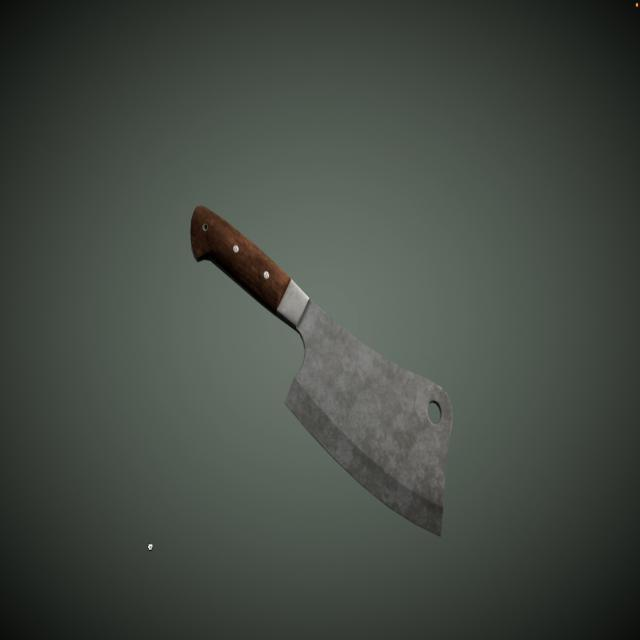cleaver: (188, 201, 451, 530)
